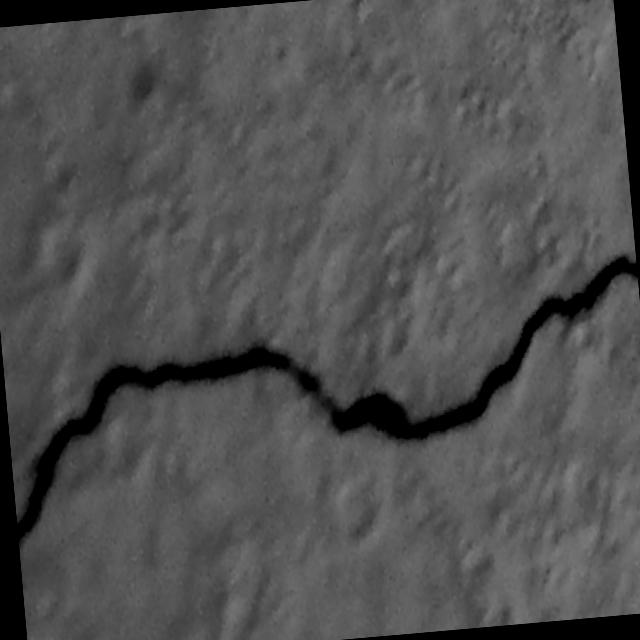crack: (0, 252, 640, 548)
